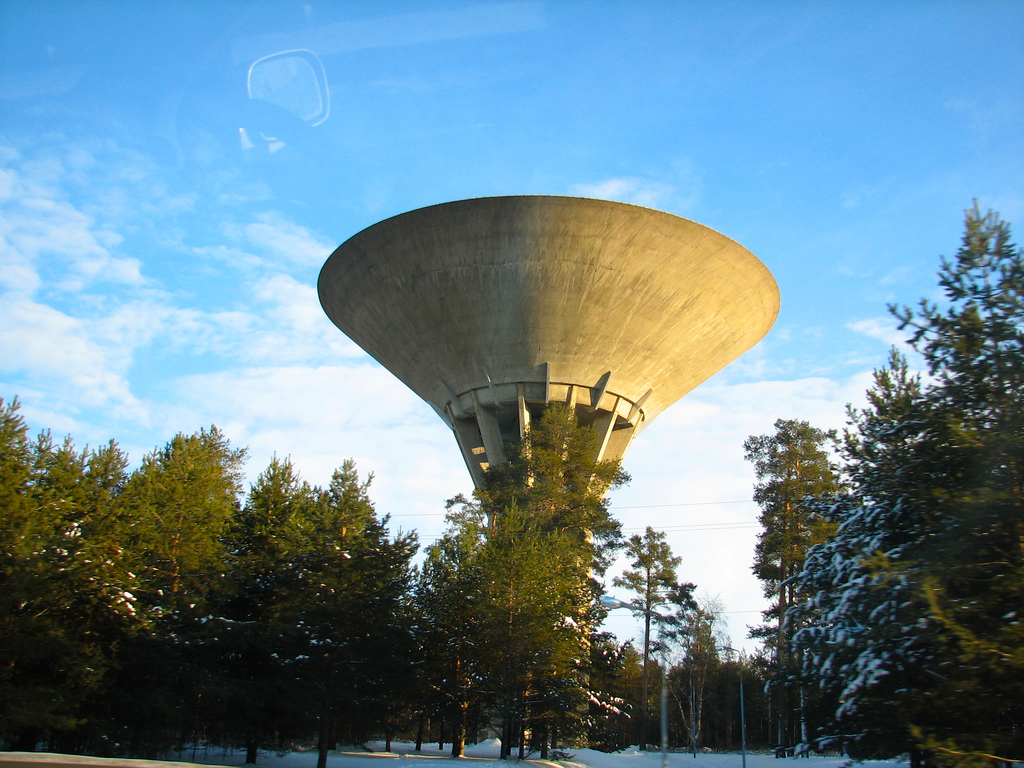Tree: (0, 197, 1023, 768)
